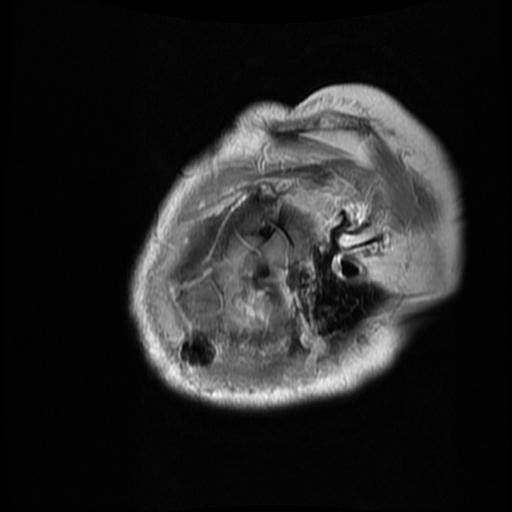glioma: (217, 235, 272, 338)
